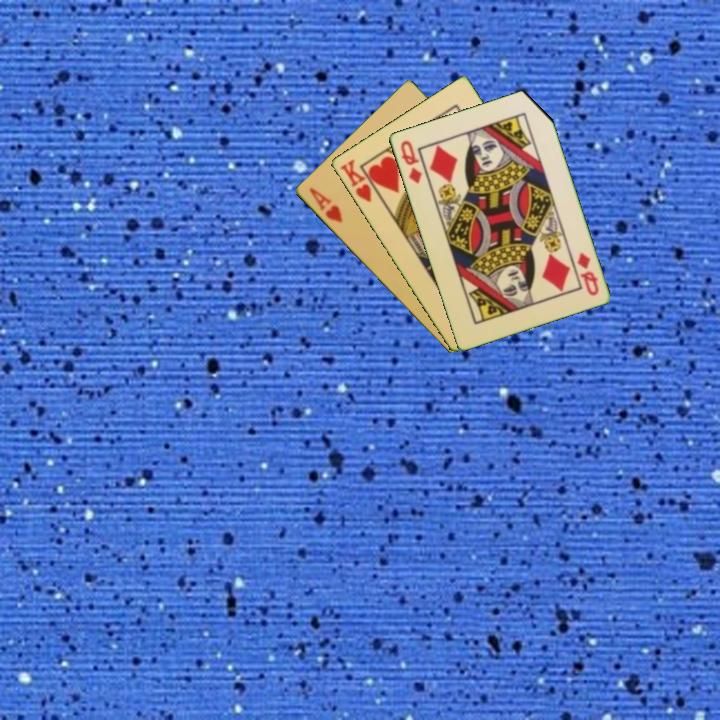Ah: (305, 184, 345, 226)
Kh: (336, 156, 383, 205)
Qd: (573, 249, 601, 298), (397, 136, 424, 186)
